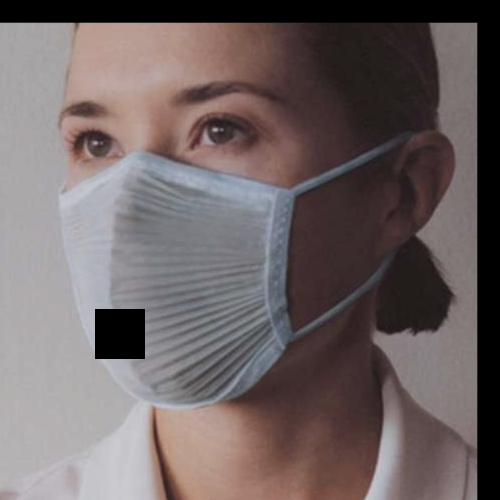with_mask: (55, 71, 372, 408)
